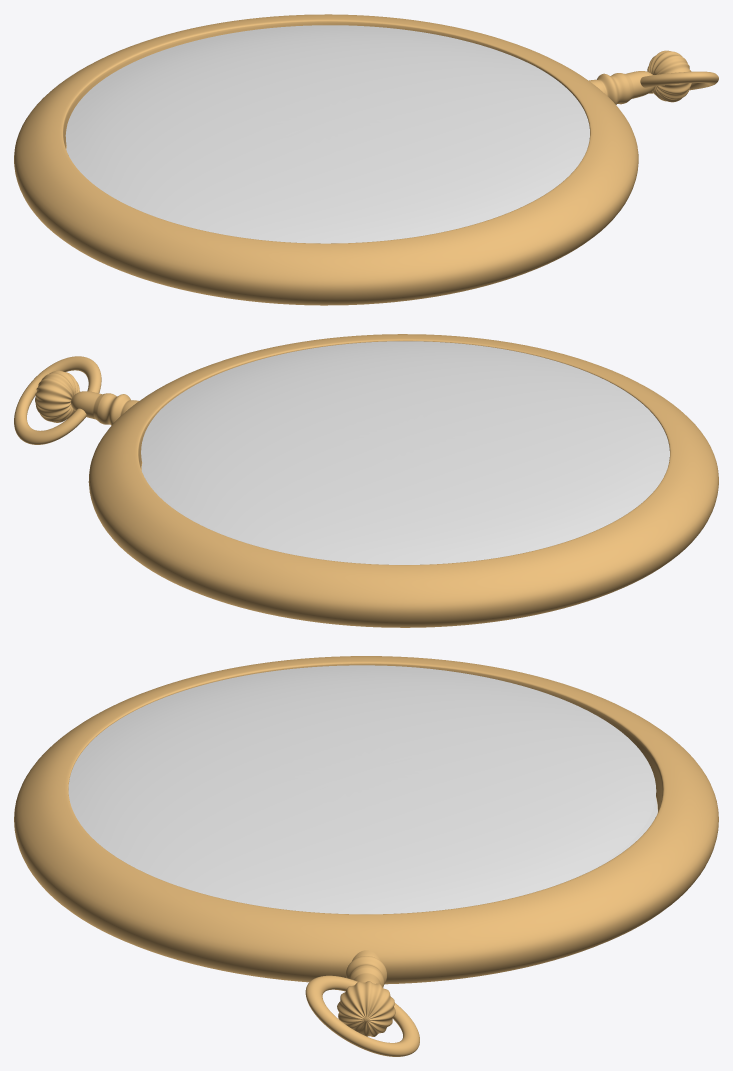
The model's file is Pocket Watch.fbx.
3 renders of one model, top to bottom at view 1: azimuth 30°, elevation 25°; view 2: azimuth 150°, elevation 25°; view 3: azimuth 270°, elevation 25°, orthographic. The views are drawn at different scales.
Visible parts, largest first — view 1: Tape, Base; view 2: Tape, Base; view 3: Tape, Base.
Part boxes in pixels (x1,y1,x2,y2): Tape: (65, 25, 589, 243); Base: (14, 14, 718, 305); Tape: (141, 341, 669, 564); Base: (14, 334, 718, 627); Tape: (68, 665, 656, 914); Base: (14, 656, 718, 1056).
Bounding box in the file's own units: 238 × 31.81 × 197.
